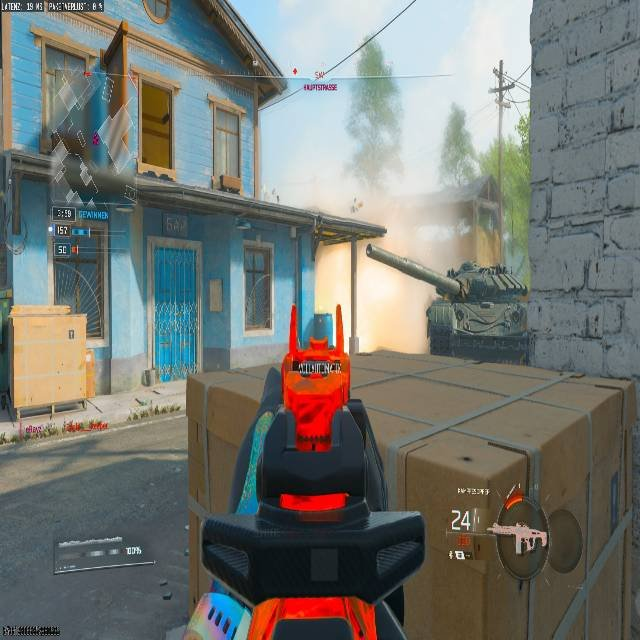head: (280, 344, 350, 427)
player: (188, 337, 423, 639)
